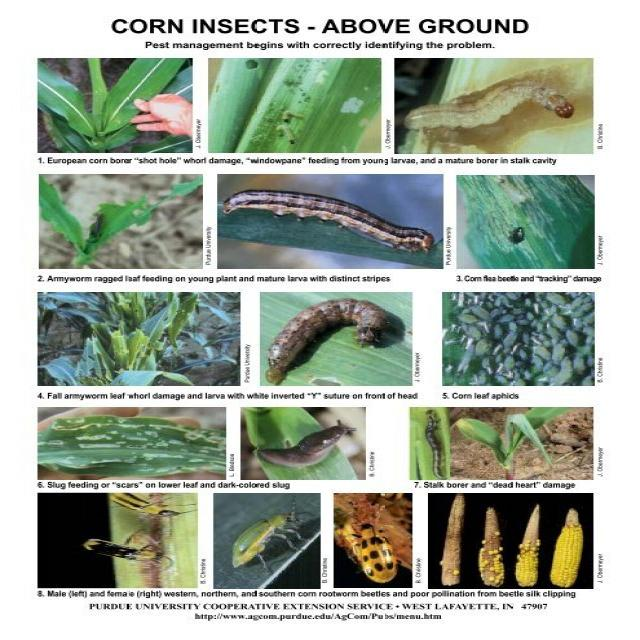cornborer-Larva-: (401, 74, 582, 139)
